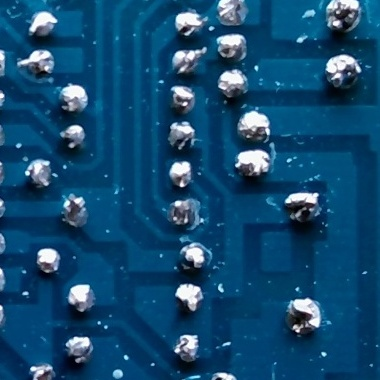?: (286, 190, 323, 227), (176, 9, 206, 42), (64, 336, 95, 366), (182, 239, 212, 267), (0, 42, 8, 78), (0, 193, 8, 225), (0, 303, 6, 329)
drag: (169, 116, 198, 152), (172, 282, 205, 313), (61, 194, 89, 230), (217, 0, 247, 27), (171, 84, 198, 114), (32, 362, 56, 380)
little: (287, 295, 324, 333), (323, 0, 363, 33), (165, 197, 201, 229), (215, 68, 249, 98), (216, 31, 247, 62), (174, 333, 202, 362), (0, 118, 8, 148), (209, 372, 239, 380), (0, 230, 7, 258), (0, 82, 5, 116)
norm: (25, 159, 54, 192), (61, 83, 89, 115), (167, 161, 196, 191), (36, 247, 62, 273), (0, 265, 9, 296)
tip: (18, 49, 58, 78), (236, 108, 271, 141), (235, 149, 272, 177), (173, 46, 205, 77), (28, 7, 57, 39), (67, 283, 95, 315), (57, 124, 85, 149), (0, 157, 5, 188)
